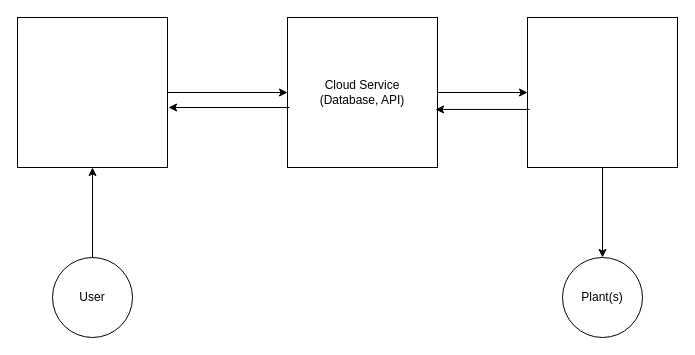
This 695x355 diagram has some shape labels left out. Here are the shapes that lost their labels. From the top down, the centre of each, then its label:
At [92,92]: "Application (Mobile, Web)".
At [602,92]: "Hardware (Arduino Microcontroller, Arduino Components)".
